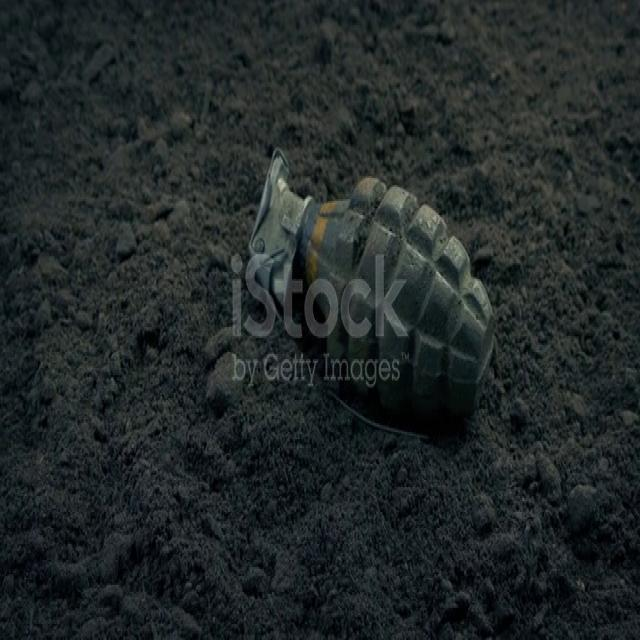grenade: (240, 132, 496, 446)
